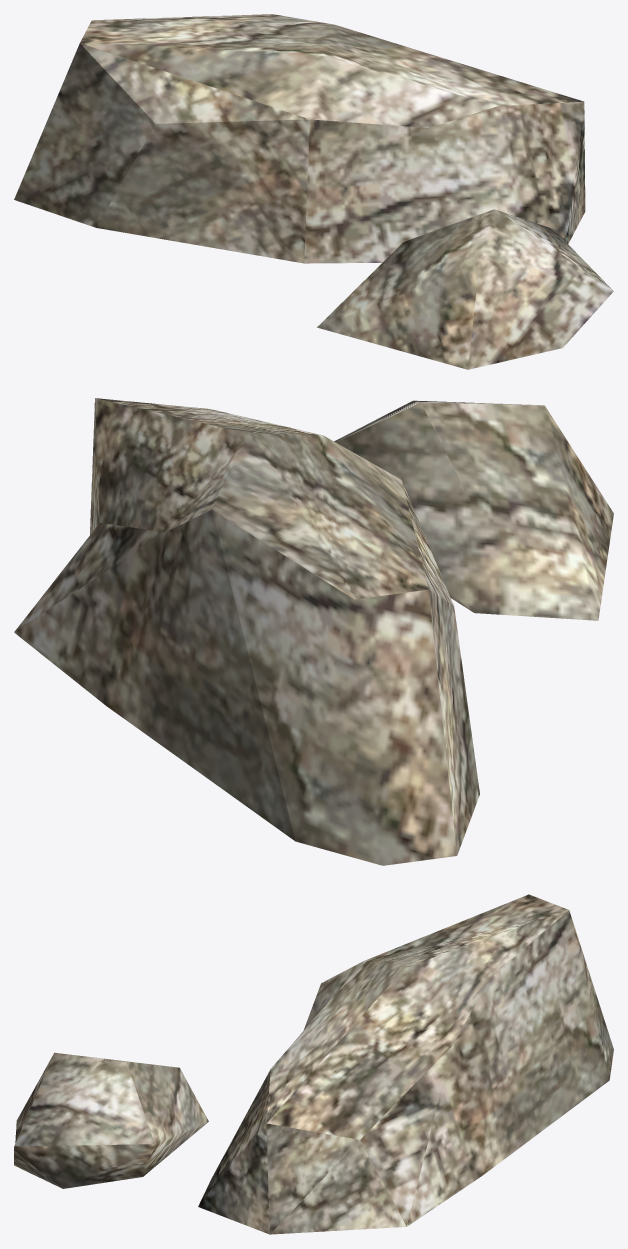
Rendered from geo_medit_04.dae.
3 views of the same model, one above another, from view 1: azimuth 30°, elevation 25°; view 2: azimuth 150°, elevation 25°; view 3: azimuth 270°, elevation 25° (orthographic). The views are drawn at different scales.
Visible parts, largest first — view 1: stonemine_granite_a-Pivot; view 2: stonemine_granite_a-Pivot; view 3: stonemine_granite_a-Pivot.
Part boxes in pixels (box(x1,y1,x2,y2)): stonemine_granite_a-Pivot: box(14, 14, 613, 369); stonemine_granite_a-Pivot: box(14, 398, 613, 865); stonemine_granite_a-Pivot: box(14, 894, 613, 1234).
Size of the model in its own units: 5.71 by 7.23 by 2.43.
